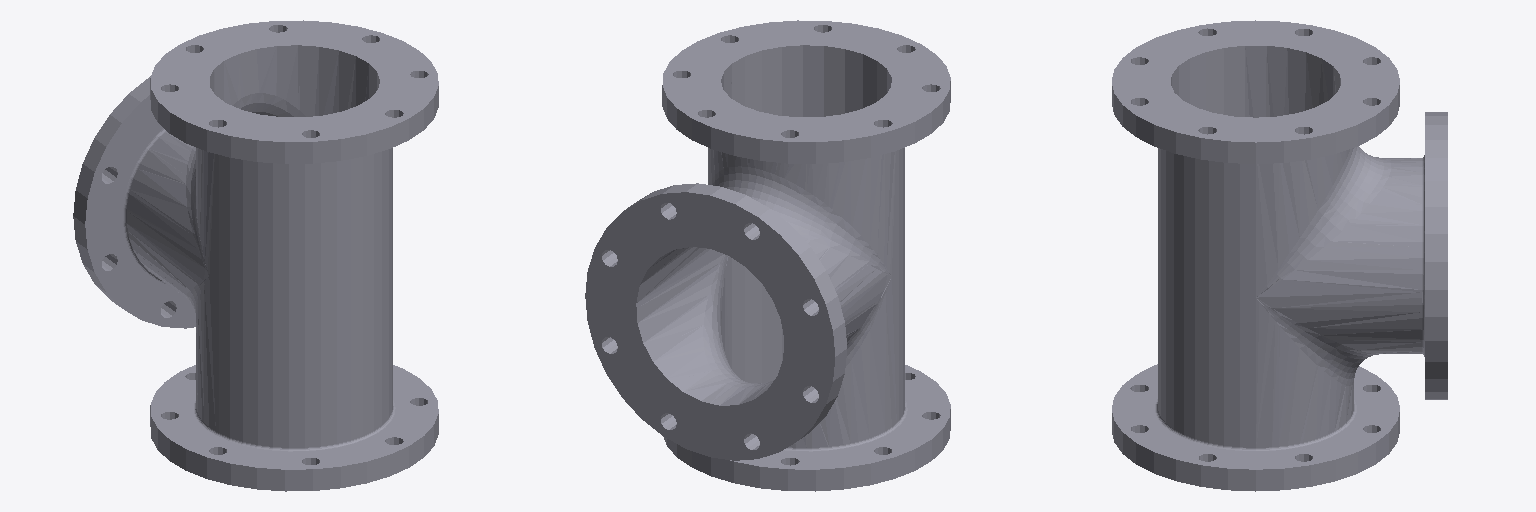
The robot description file, URDF, robot "8_Inch_Run__8_Inch_Branch":
<robot
  name="8_Inch_Run__8_Inch_Branch">
  <link
    name="8_Inch_Run__8_Inch_Branch">
    <inertial>
      <origin
        xyz="1.2379E-06 -7.53419999971178E-08 0.047071"
        rpy="0 0 0" />
      <mass
        value="9.5382" />
      <inertia
        ixx="0.353208963483381"
        ixy="-2.93014743422867E-08"
        ixz="-6.86065067557117E-07"
        iyy="0.208541129068121"
        iyz="3.84960138526551E-07"
        izz="0.303547380649714" />
    </inertial>
    <visual>
      <origin
        xyz="1.5707963267949 0 0"
        rpy="0 0 0" />
      <geometry>
        <mesh
          filename="package://8_Inch_Run__8_Inch_Branch/meshes/8_Inch_Run__8_Inch_Branch.STL" />
      </geometry>
      <material
        name="">
        <color
          rgba="0.63922 0.63922 0.68627 1" />
      </material>
    </visual>
    <collision>
      <origin
        xyz="0 0 0"
        rpy="1.5707963267949 0 0" />
      <geometry>
        <mesh
          filename="package://8_Inch_Run__8_Inch_Branch/meshes/8_Inch_Run__8_Inch_Branch.STL" />
      </geometry>
    </collision>
  </link>
</robot>

--- Render facts (derived) ---
3 views of the same robot in one strip: view 1: azimuth 30°, elevation 25°; view 2: azimuth 150°, elevation 25°; view 3: azimuth 270°, elevation 25° (orthographic).
Robot: 8_Inch_Run__8_Inch_Branch — 1 links, 0 joints (none); root link 8_Inch_Run__8_Inch_Branch; default pose: every joint at zero.
Links seen in each view (by area): view 1: 8_Inch_Run__8_Inch_Branch; view 2: 8_Inch_Run__8_Inch_Branch; view 3: 8_Inch_Run__8_Inch_Branch.
Link boxes in pixels (x1,y1,x2,y2): 8_Inch_Run__8_Inch_Branch: (73,20,438,491); 8_Inch_Run__8_Inch_Branch: (585,20,950,491); 8_Inch_Run__8_Inch_Branch: (1112,20,1447,491).
Bounding box of the posed robot: 0.3429 × 0.4 × 0.4572 m (x, y, z).
1 mesh visuals loaded from 1 distinct referenced files (1 binary STL).